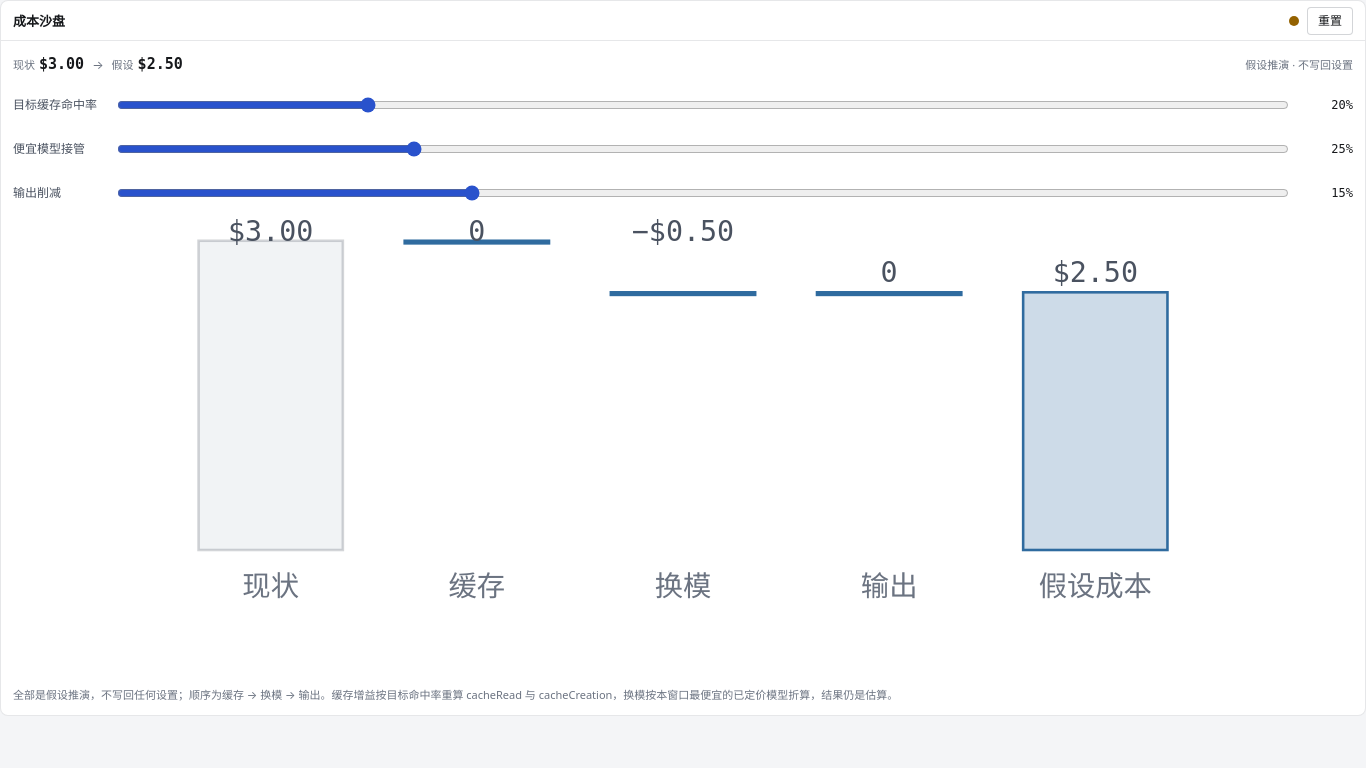
CostSandboxPanel › 0 / 100 边界：接管 0% 不动，100% 全部按最便宜模型折算
Set the slider named "便宜模型接管比例" to "0" at (125, 149), box [117,141,1289,157]
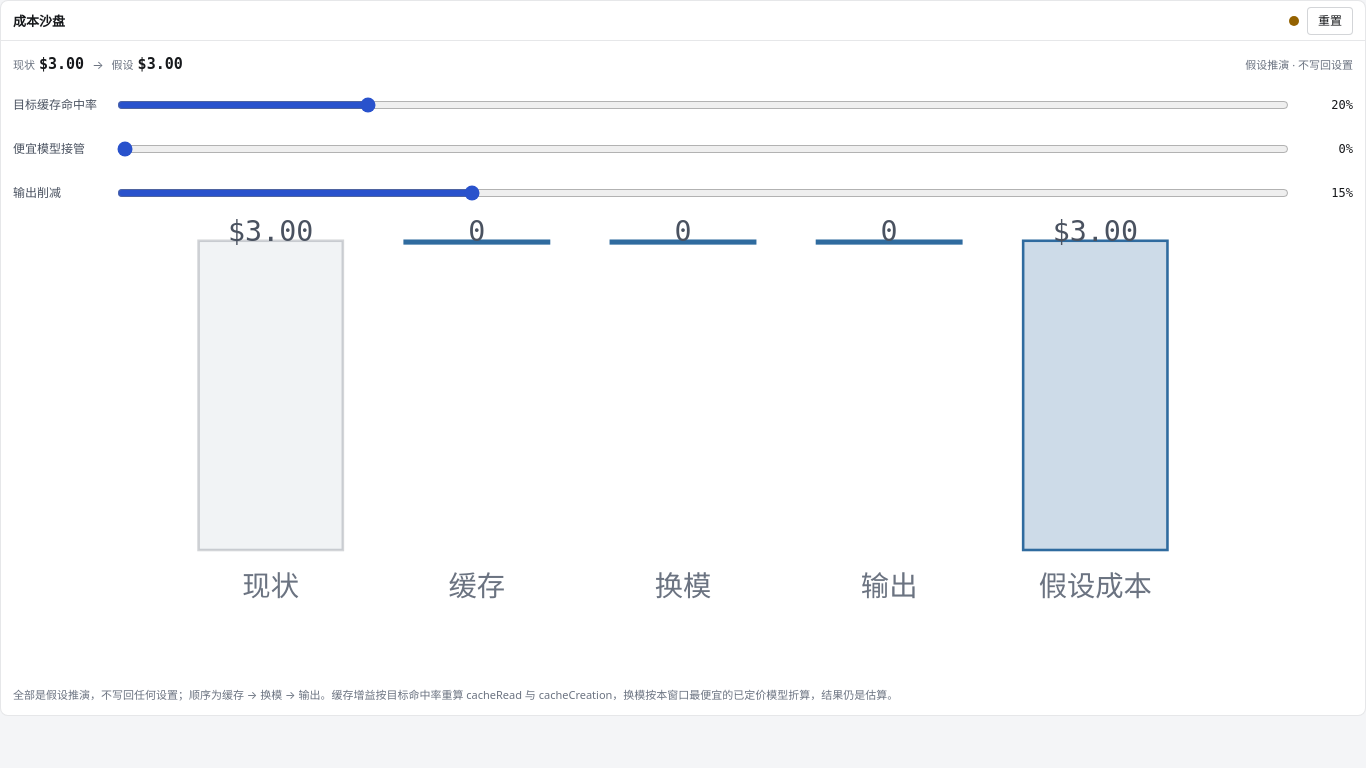
Expected: the element showing "现状 $3.00 → 假设 $3.00 假设推演 · 不写回设置" is shown, [13,53,1353,75]
Set the slider named "便宜模型接管比例" to "100" at (1281, 149), box [117,141,1289,157]
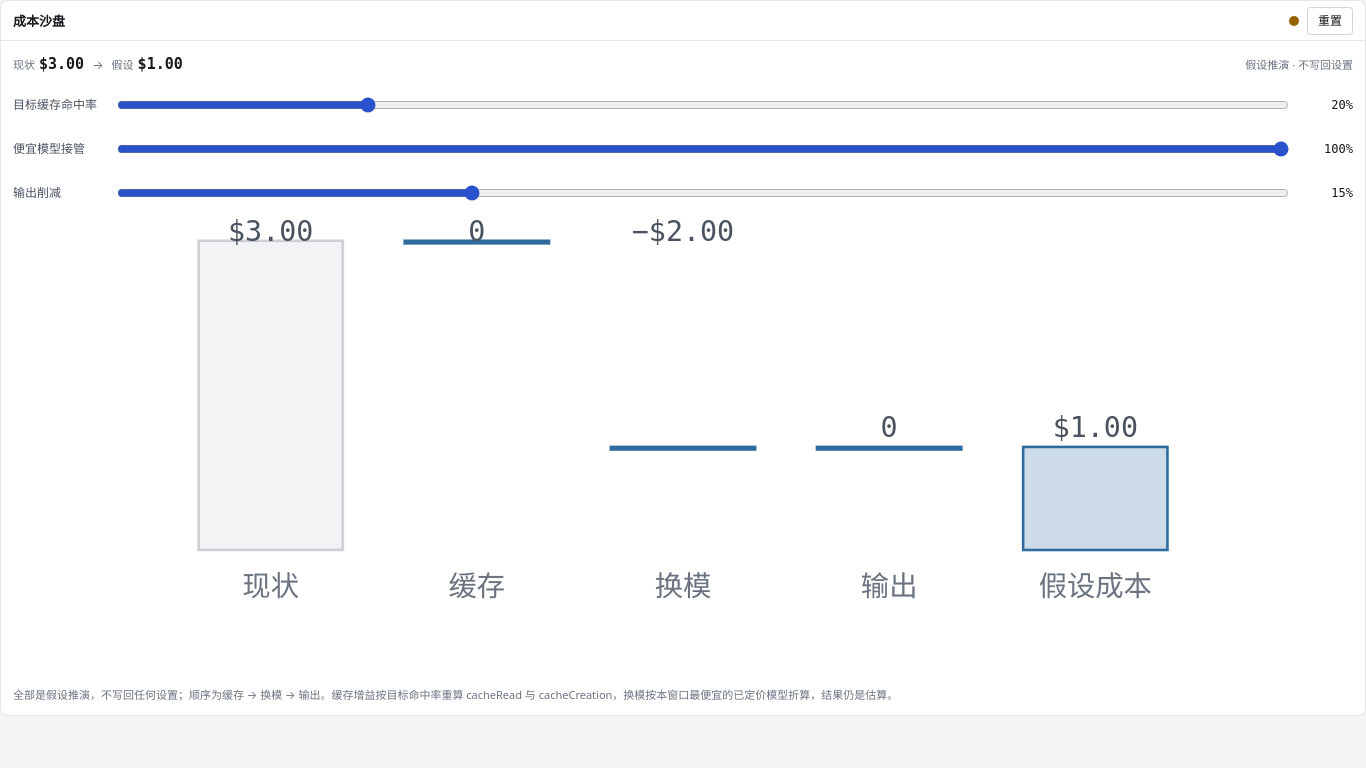
Now the element showing "现状 $3.00 → 假设 $1.00 假设推演 · 不写回设置" is shown, box [13,53,1353,75]
